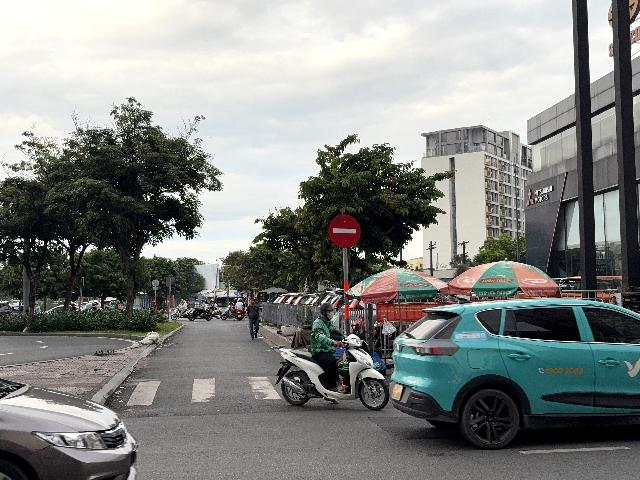cam-di-nguoc-chieu: (328, 215, 361, 248)
